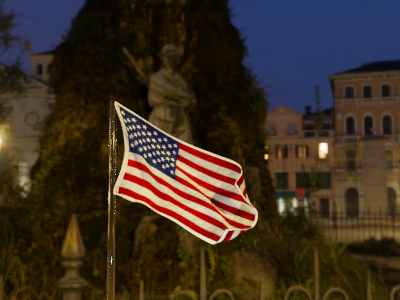America flag: (113, 101, 259, 246)
